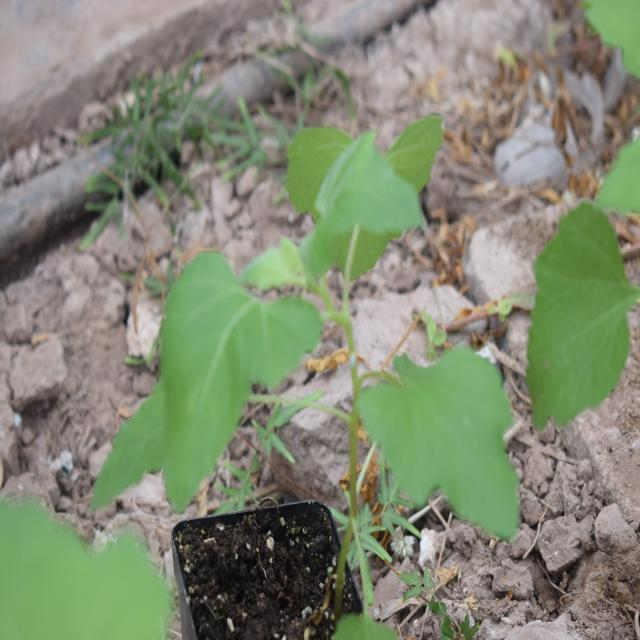cocklebur: (160, 115, 546, 566)
